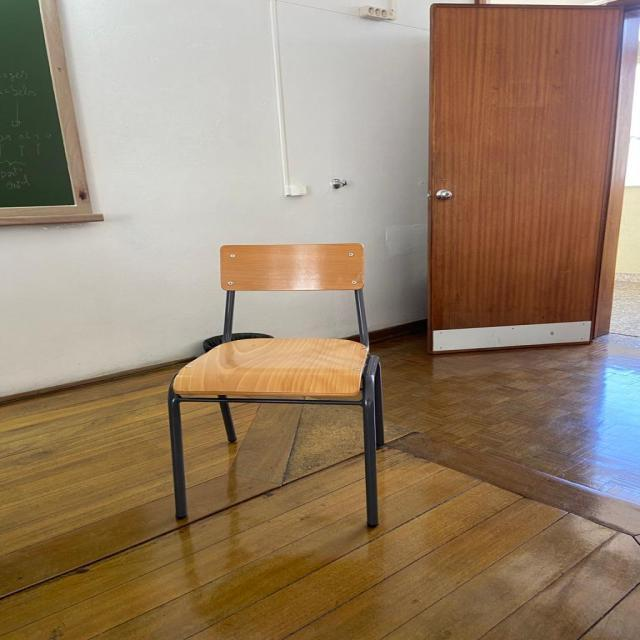chair: (414, 1, 622, 366), (164, 238, 392, 536)
